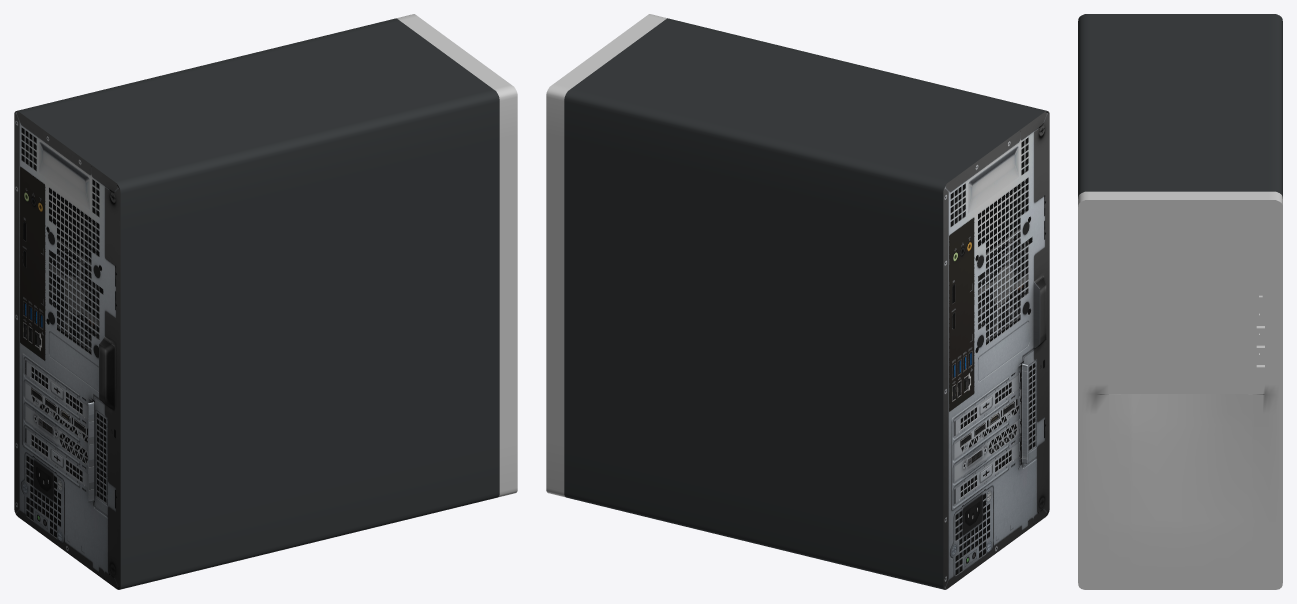
File: DellXPSdesktop.fbx
3 views of the same model, side by side, from view 1: azimuth 30°, elevation 25°; view 2: azimuth 150°, elevation 25°; view 3: azimuth 270°, elevation 25° (orthographic). The views are drawn at different scales.
Parts seen in each view (by area): view 1: Plane; view 2: Plane; view 3: Plane.
Part boxes in pixels (x1,y1,x2,y2): Plane: (14,14,517,589); Plane: (546,14,1049,589); Plane: (1078,14,1282,589).
Bounding box in the file's own units: 572 × 551 × 262.
